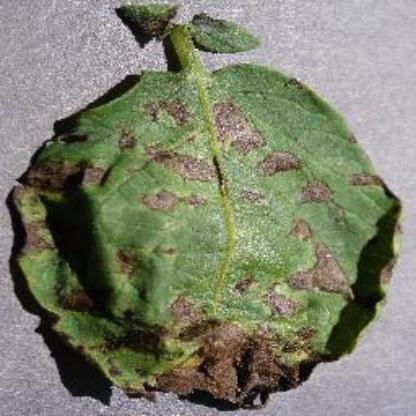Early-Blight: (4, 0, 416, 414)
